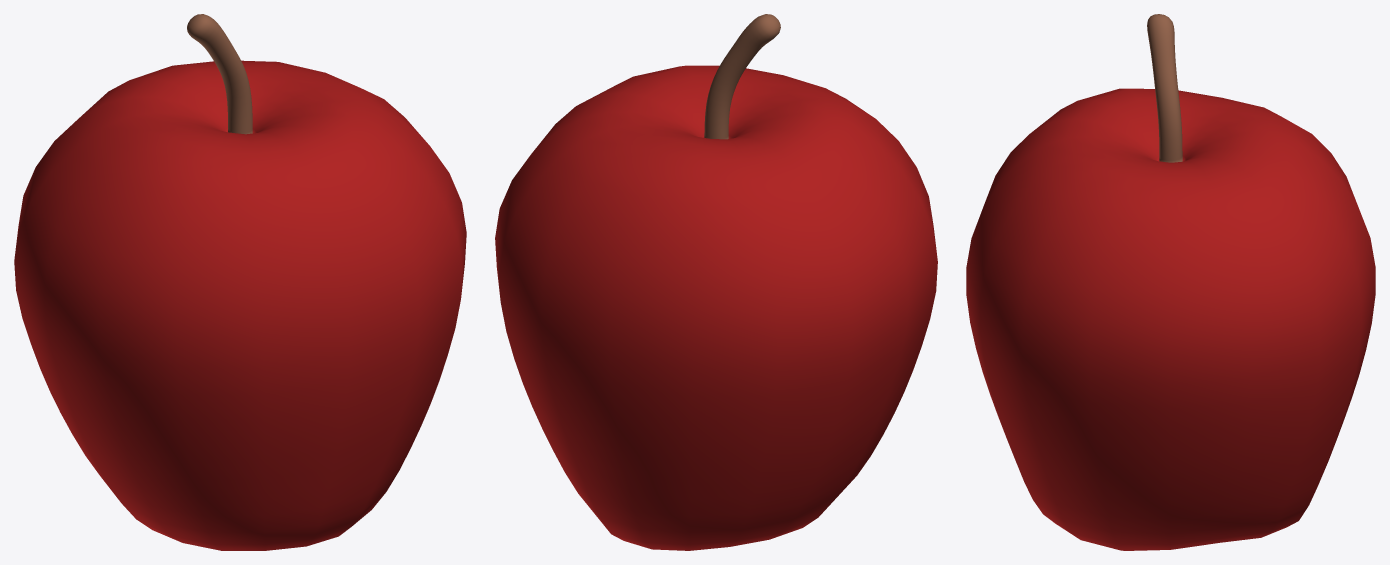
The model's file is apple.fbx.
3 views of the same model, side by side, from view 1: azimuth 30°, elevation 25°; view 2: azimuth 150°, elevation 25°; view 3: azimuth 270°, elevation 25° (orthographic). The views are drawn at different scales.
Parts seen in each view (by area): view 1: apple.005; view 2: apple.005; view 3: apple.005.
Boxes of the visible parts, x1,y1,x2,y2 form: apple.005: (14, 14, 466, 550); apple.005: (495, 14, 937, 550); apple.005: (966, 14, 1375, 550).
Bounding box in the file's own units: 0.1349 × 0.1293 × 0.1688.
